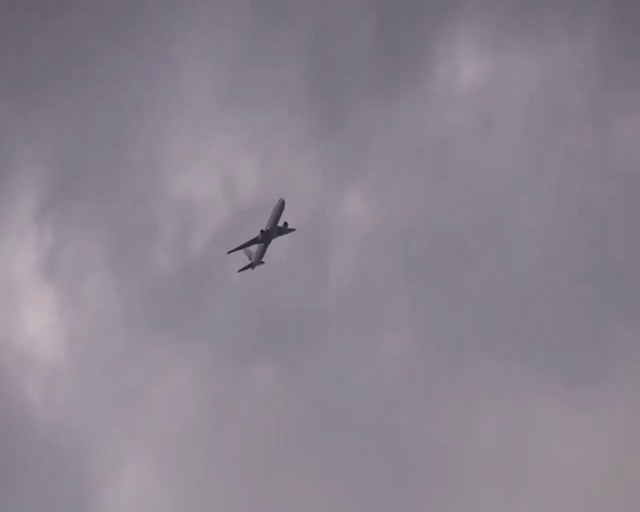AIRPLANE: (227, 197, 297, 273)
